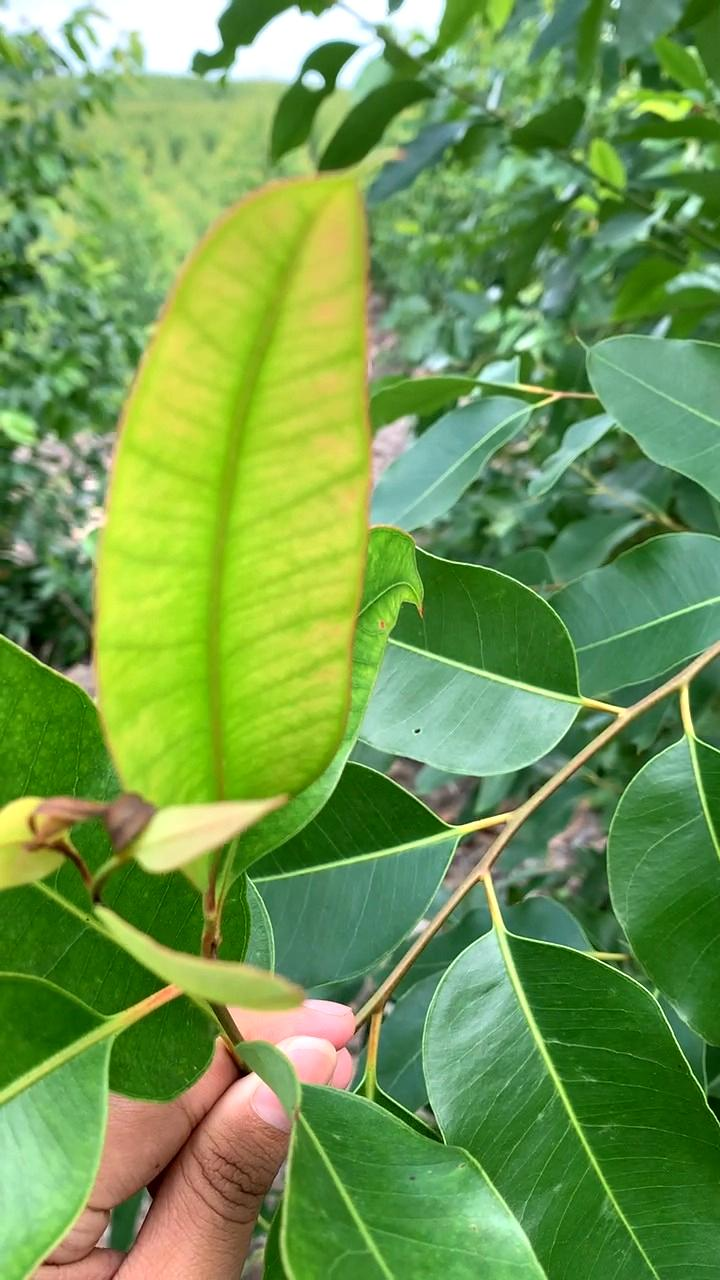Helopeltis-Withered Sprout: (23, 780, 153, 883)
